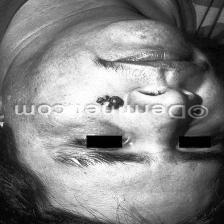Potentially Malignant Skin Tumors: (94, 93, 130, 105)
